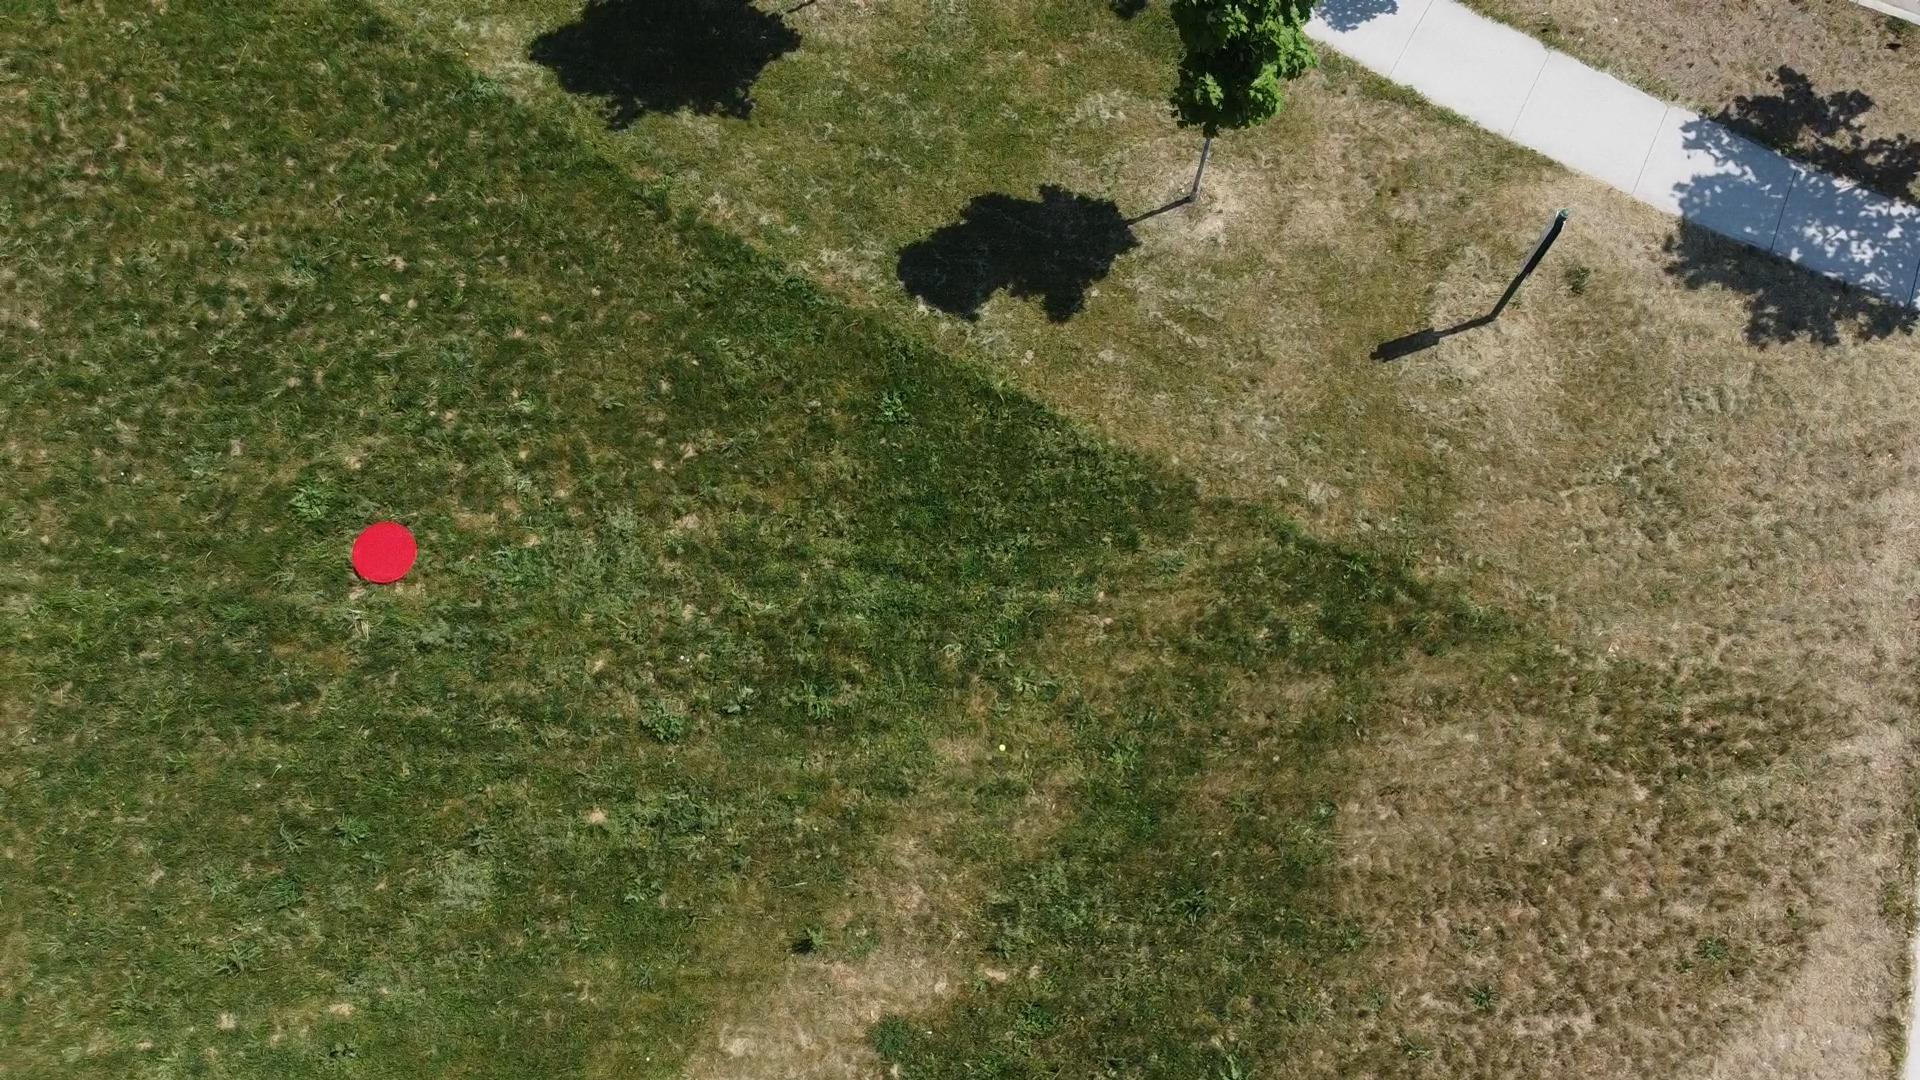Red: (349, 520, 421, 587)
